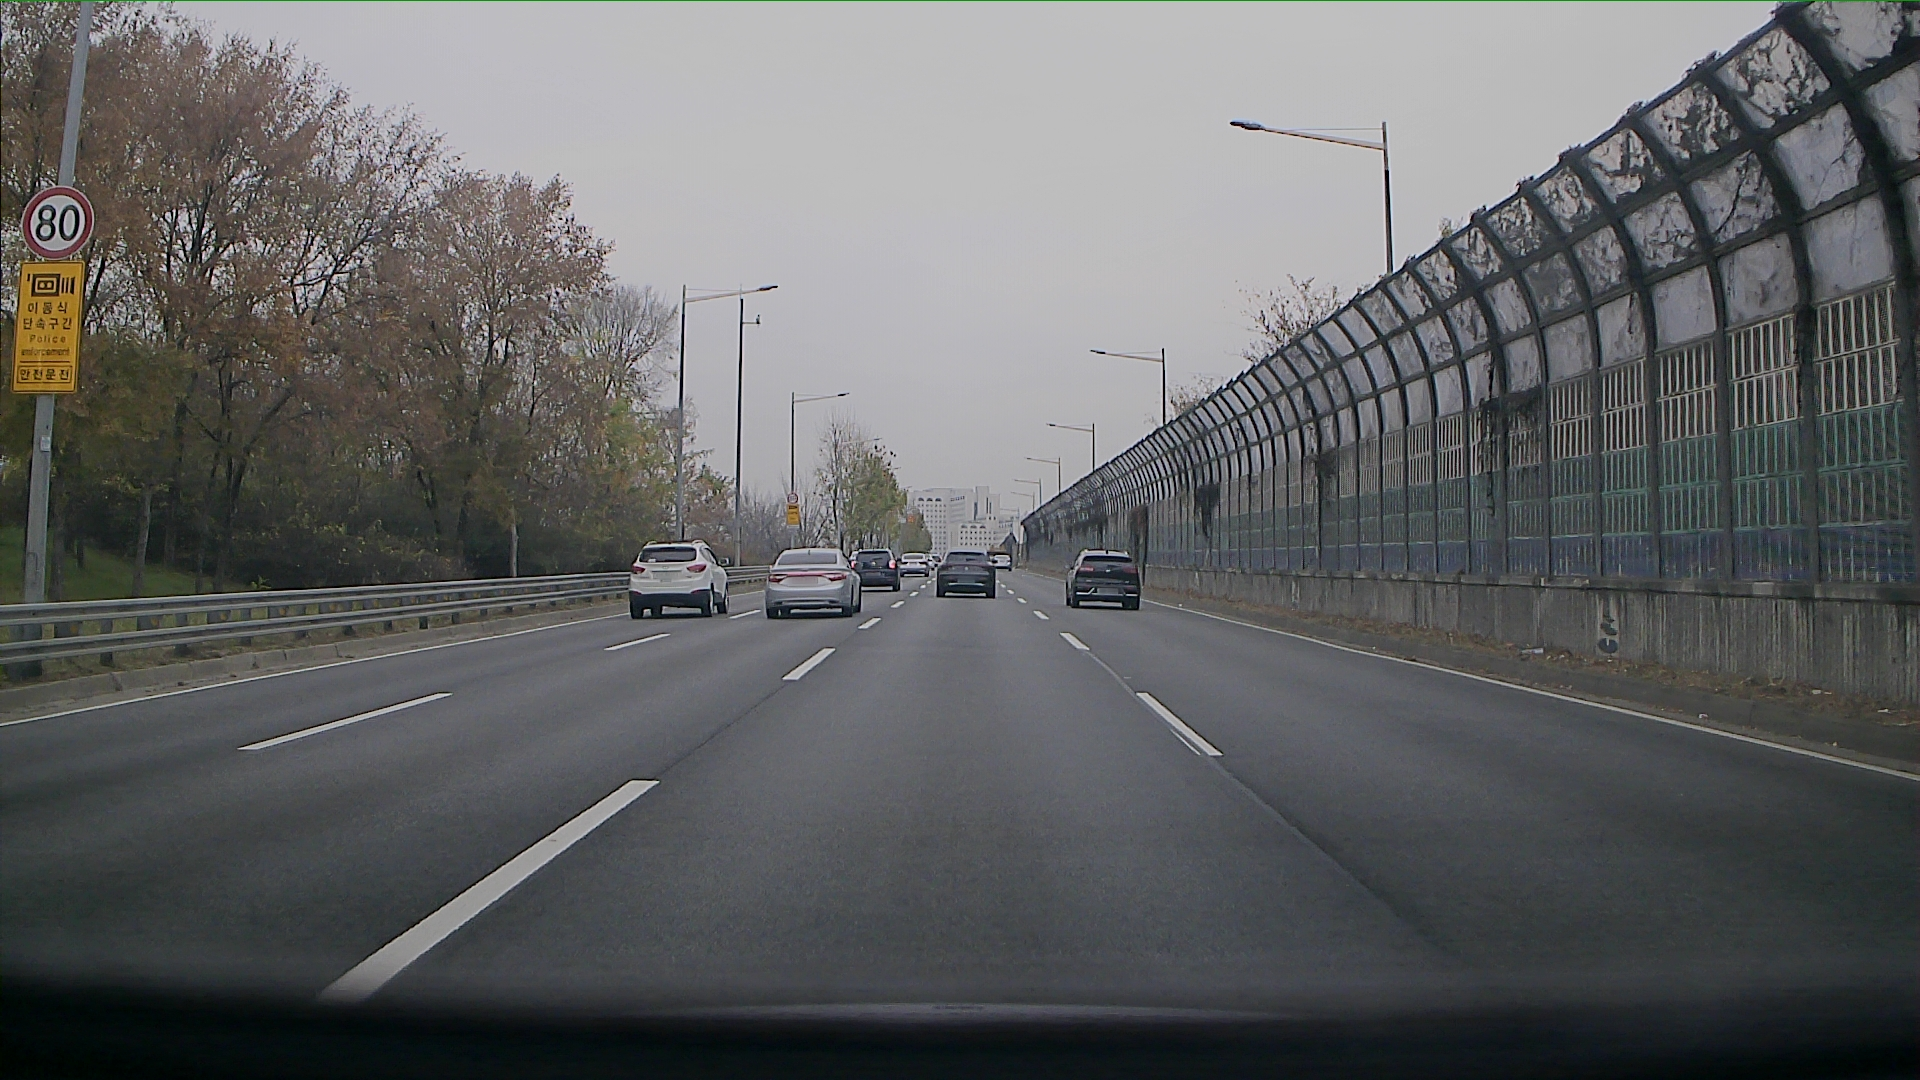trafficSignCircle: (17, 189, 91, 258), (789, 492, 800, 502)
